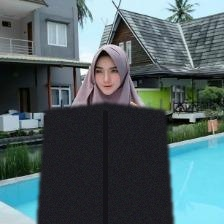Cadar_Niqab: (37, 37, 173, 224)
